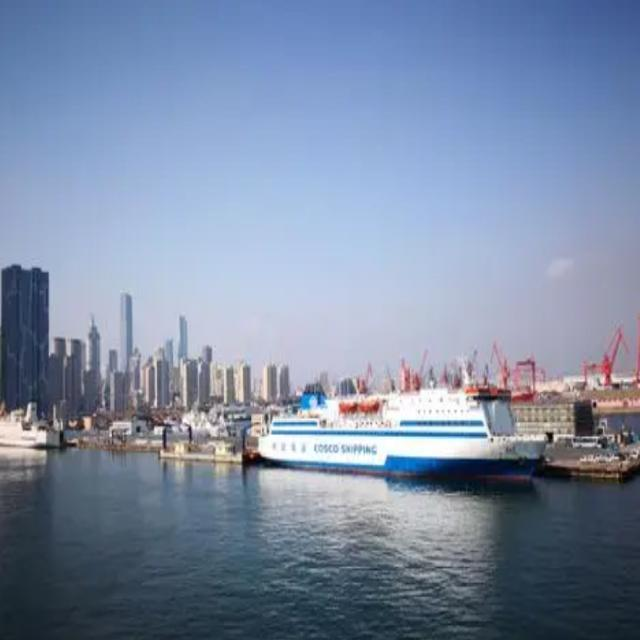cargoship: (249, 367, 542, 480)
